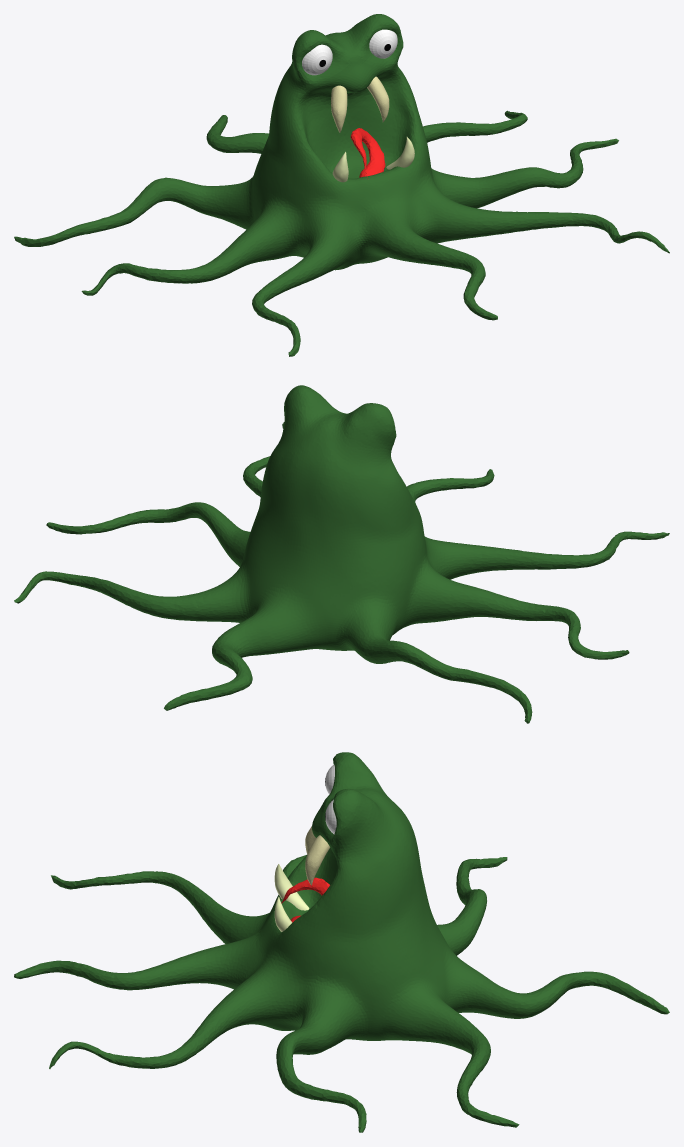
File: alien2.fbx
3 views of the same model, one above another, from view 1: azimuth 30°, elevation 25°; view 2: azimuth 150°, elevation 25°; view 3: azimuth 270°, elevation 25° (orthographic). The views are drawn at different scales.
Visible parts, largest first — view 1: Quad Sphere, Sphere, Icosphere, Sphere.001, Icosphere.001; view 2: Quad Sphere; view 3: Quad Sphere, Icosphere.001, Icosphere.
Boxes of the visible parts, <box> form: Quad Sphere: <box>14,14,669,356</box>; Sphere: <box>302,29,397,75</box>; Icosphere: <box>331,76,389,132</box>; Sphere.001: <box>350,128,385,179</box>; Icosphere.001: <box>332,137,414,182</box>; Quad Sphere: <box>14,385,669,723</box>; Quad Sphere: <box>14,752,669,1132</box>; Icosphere.001: <box>274,864,309,931</box>; Icosphere: <box>305,826,330,885</box>.
Size of the model in its own units: 855 by 328 by 795.
